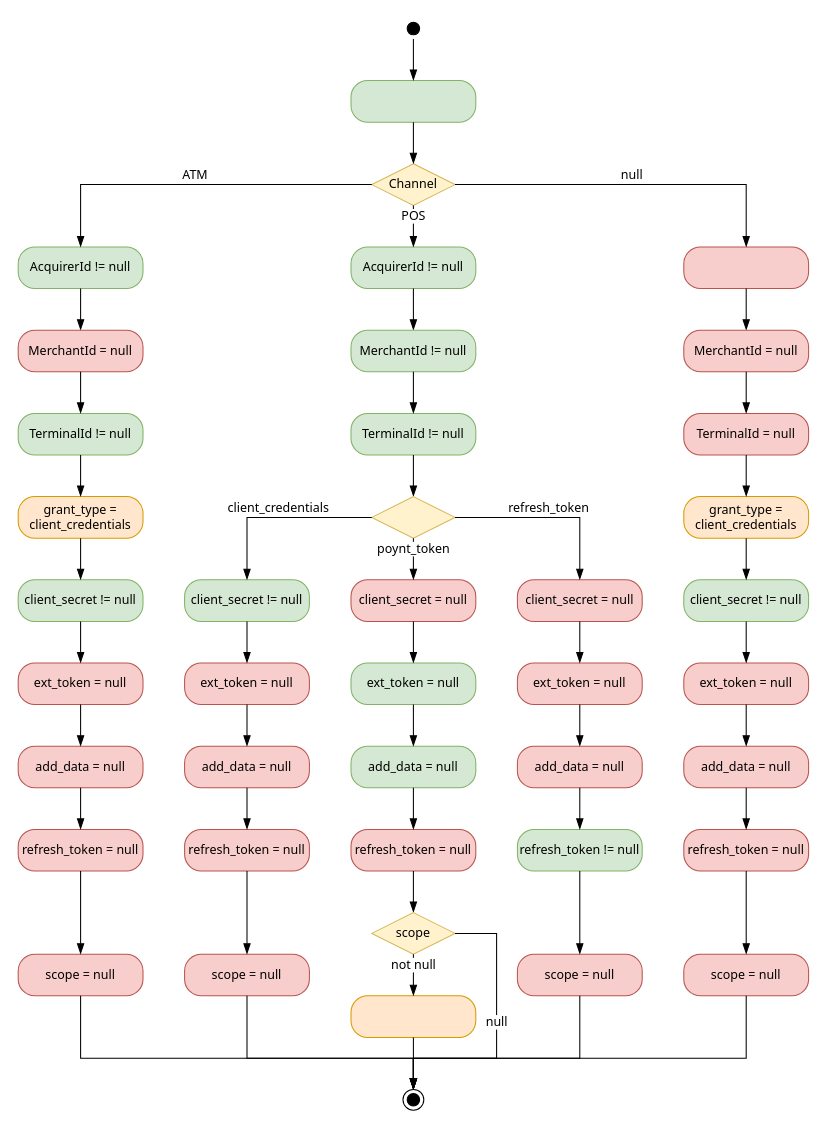
The diagram is 827 pixels wide and 1128 high, and some of its shapes have lost their labels. Here are the shapes that lost their labels. From the top down, the centre of each, then its label:
At (x=413, y=101): "client_id != null".
At (x=746, y=267): "AcquirerId = null".
At (x=413, y=517): "grant_type".
At (x=413, y=1016): "scope = offline_access".
